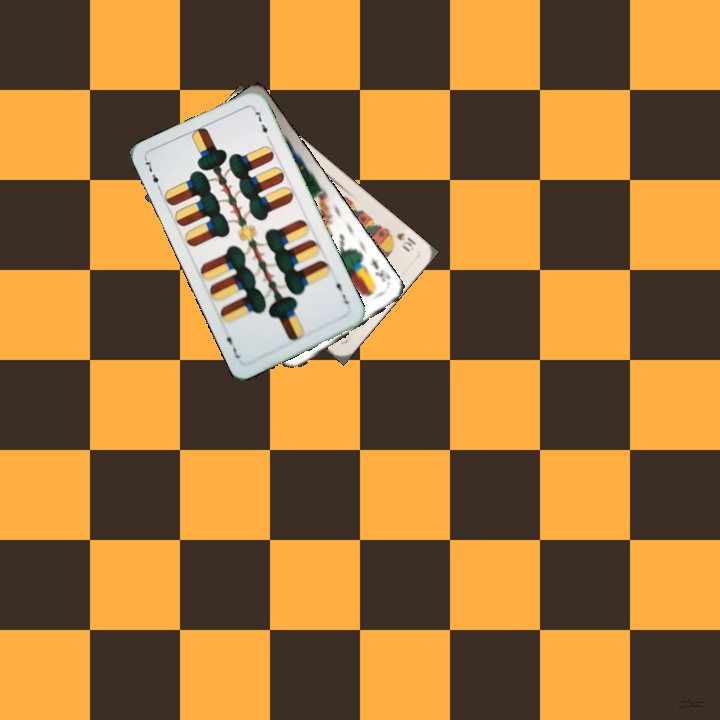E7: (141, 155, 164, 194), (332, 274, 352, 307)
EK: (367, 255, 393, 285)
S10: (384, 226, 419, 255)
